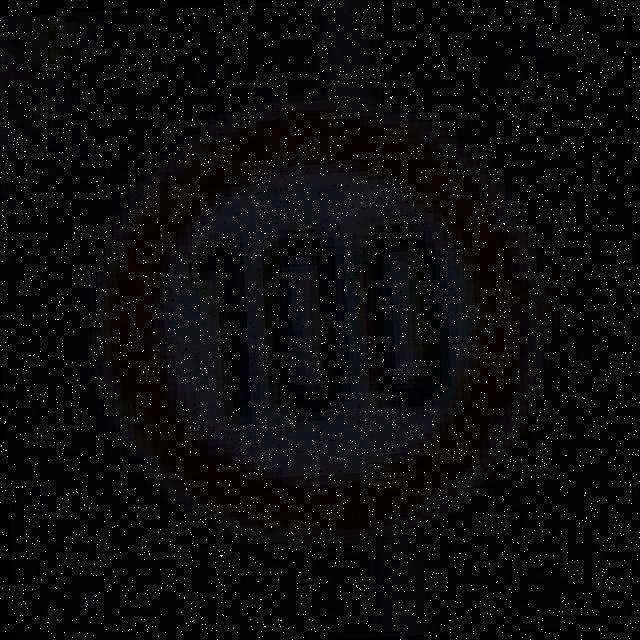Ograniczenie predkosci do 100: (96, 98, 552, 554)
